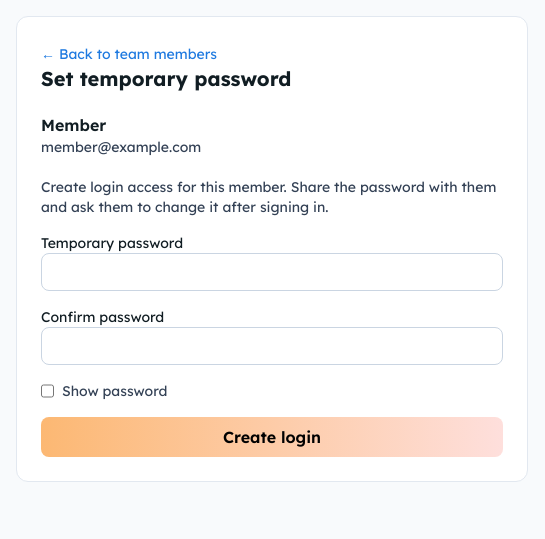
it: validates password confirmation before sending
This screenshot has width=545, height=539.
Type "Strong-password-27!" into the password field labelled "Temporary password". click: (272, 272)
box: x1=41 y1=253 x2=503 y2=291
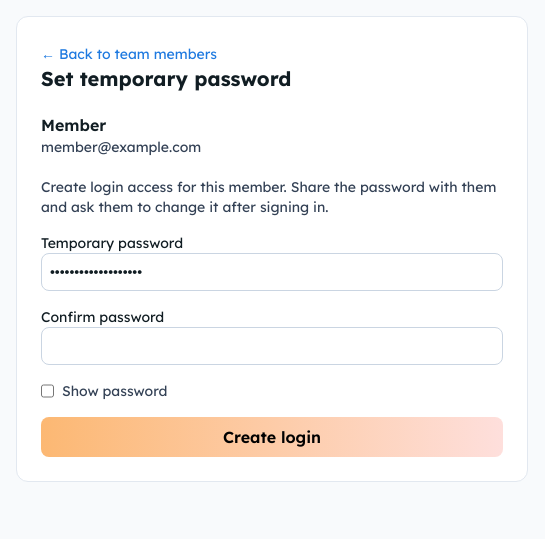
Type "different" into the password field labelled "Confirm password". click: (272, 346)
box: x1=41 y1=327 x2=503 y2=365
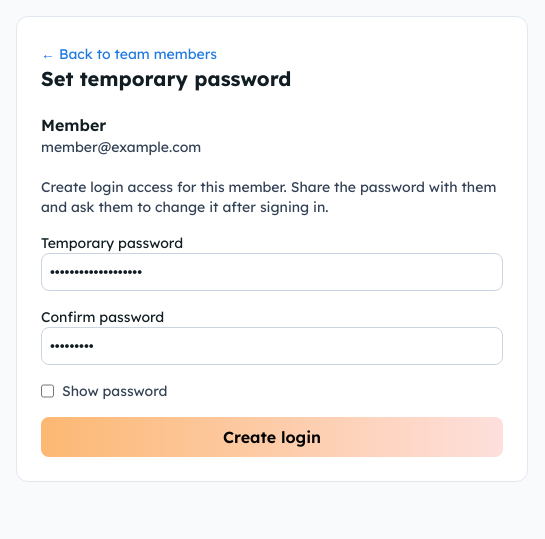
Click the button "Create login". click: (272, 437)
box: x1=41 y1=417 x2=503 y2=457
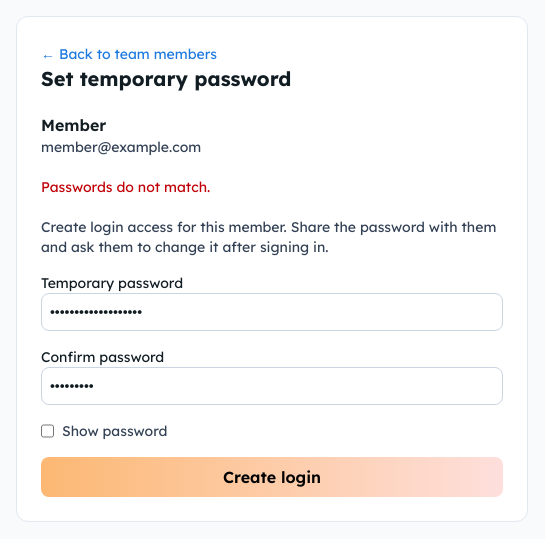
expect the message shows "Passwords do not match": met, box x1=41 y1=178 x2=210 y2=196
